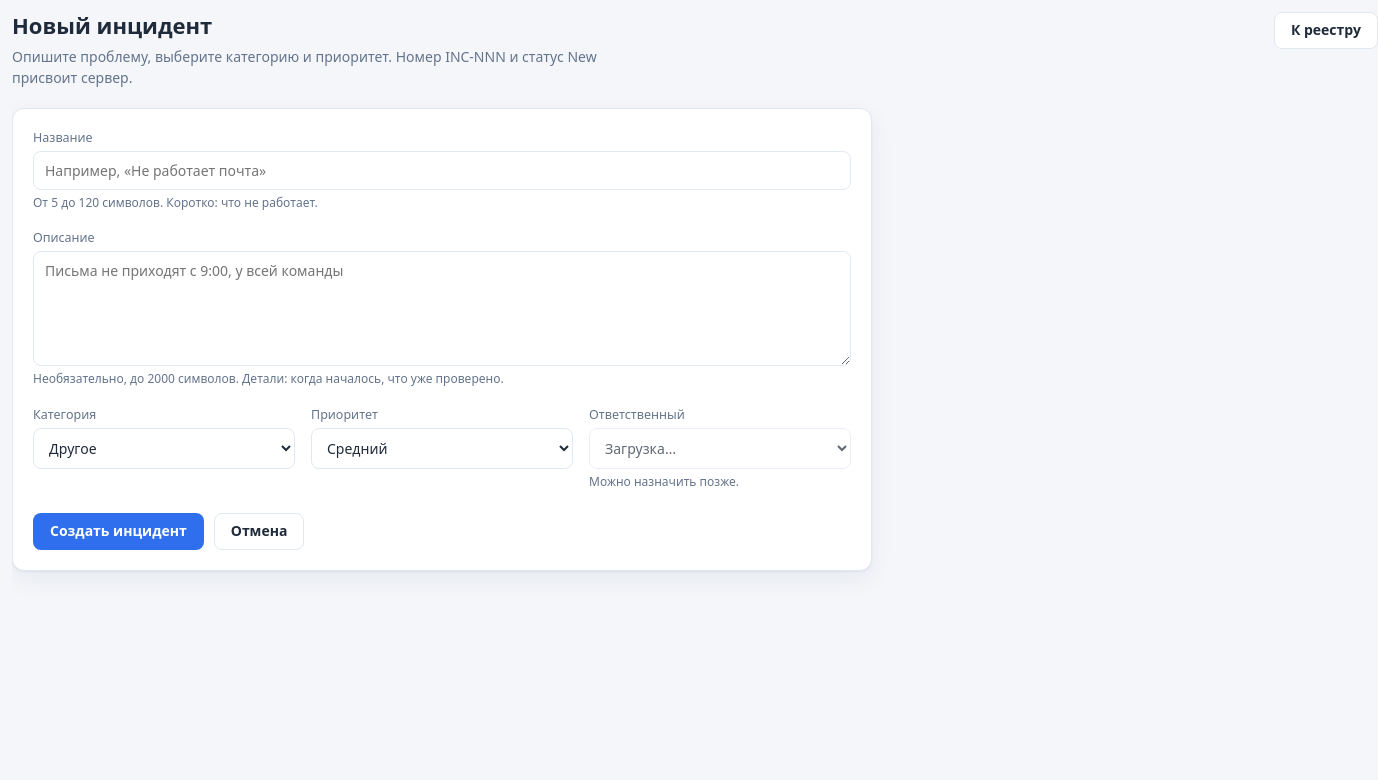
Test: IncidentCreatePage — форма создания › показывает ошибки полей от сервера (400) понятным текстом
In the field labelled "Название": [442, 170] box [33, 150, 851, 190], type "Почта"
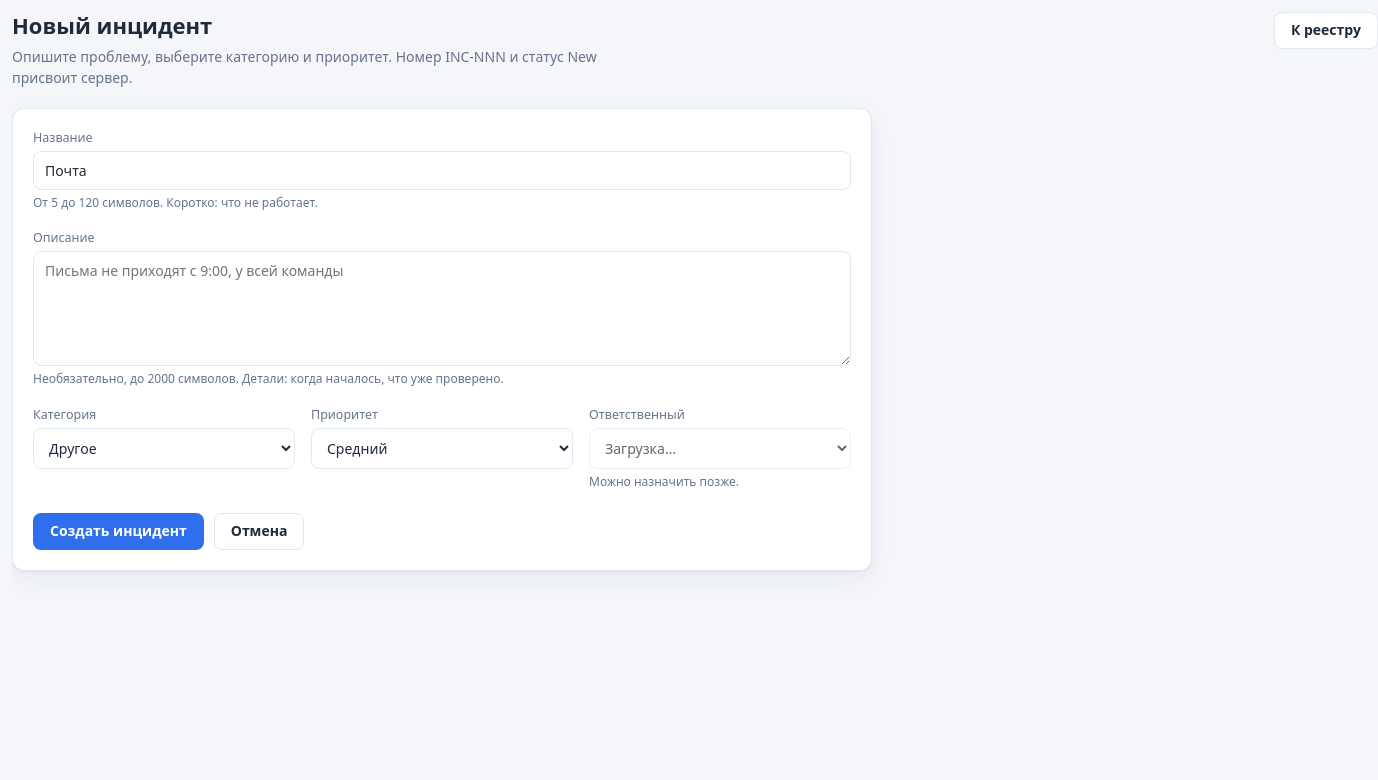
Click the button "Создать инцидент": [118, 531] box [33, 513, 204, 550]
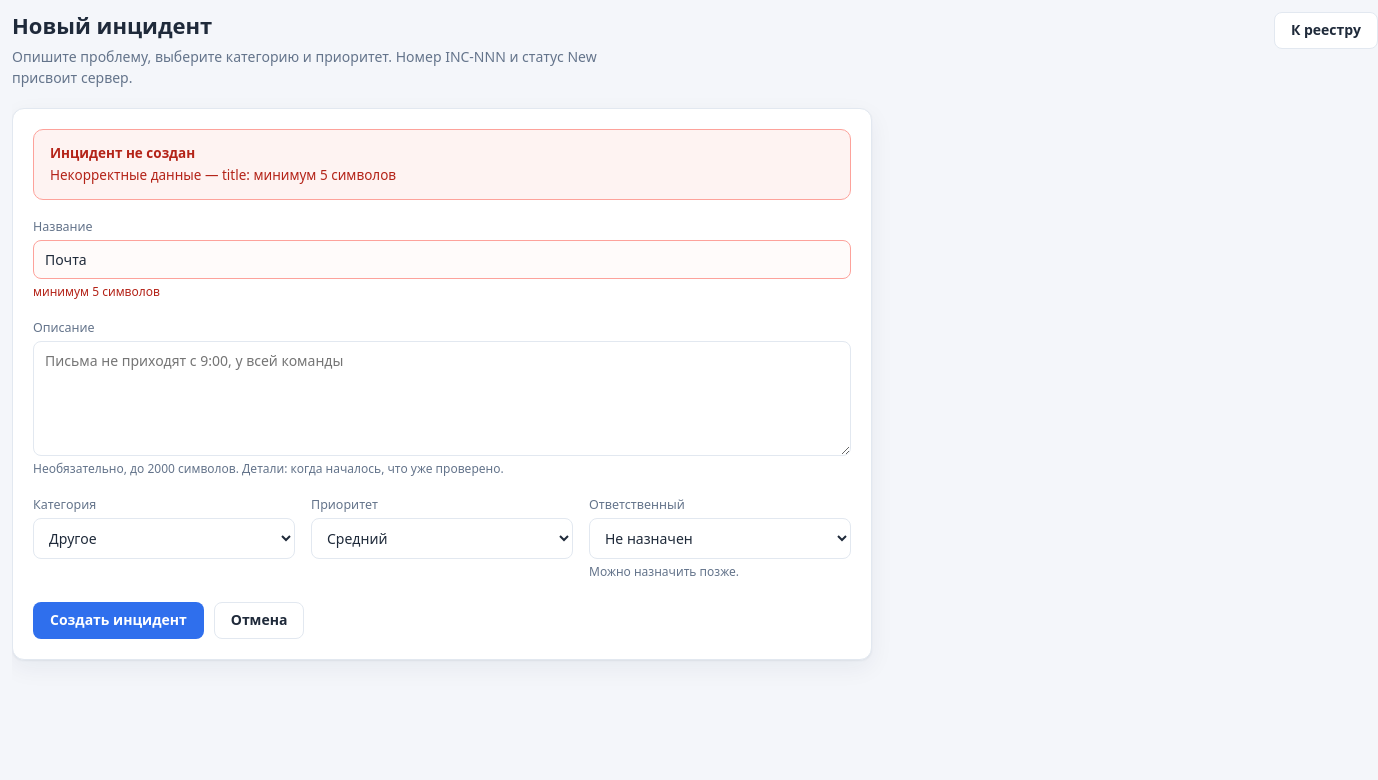
Now the message shows "Некорректные данные", box [50, 166, 396, 184]
Now the text "минимум 5 символов" is shown, box [33, 283, 160, 300]
